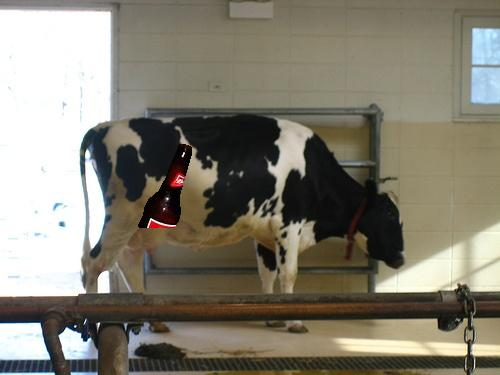tampered: (139, 145, 192, 228)
